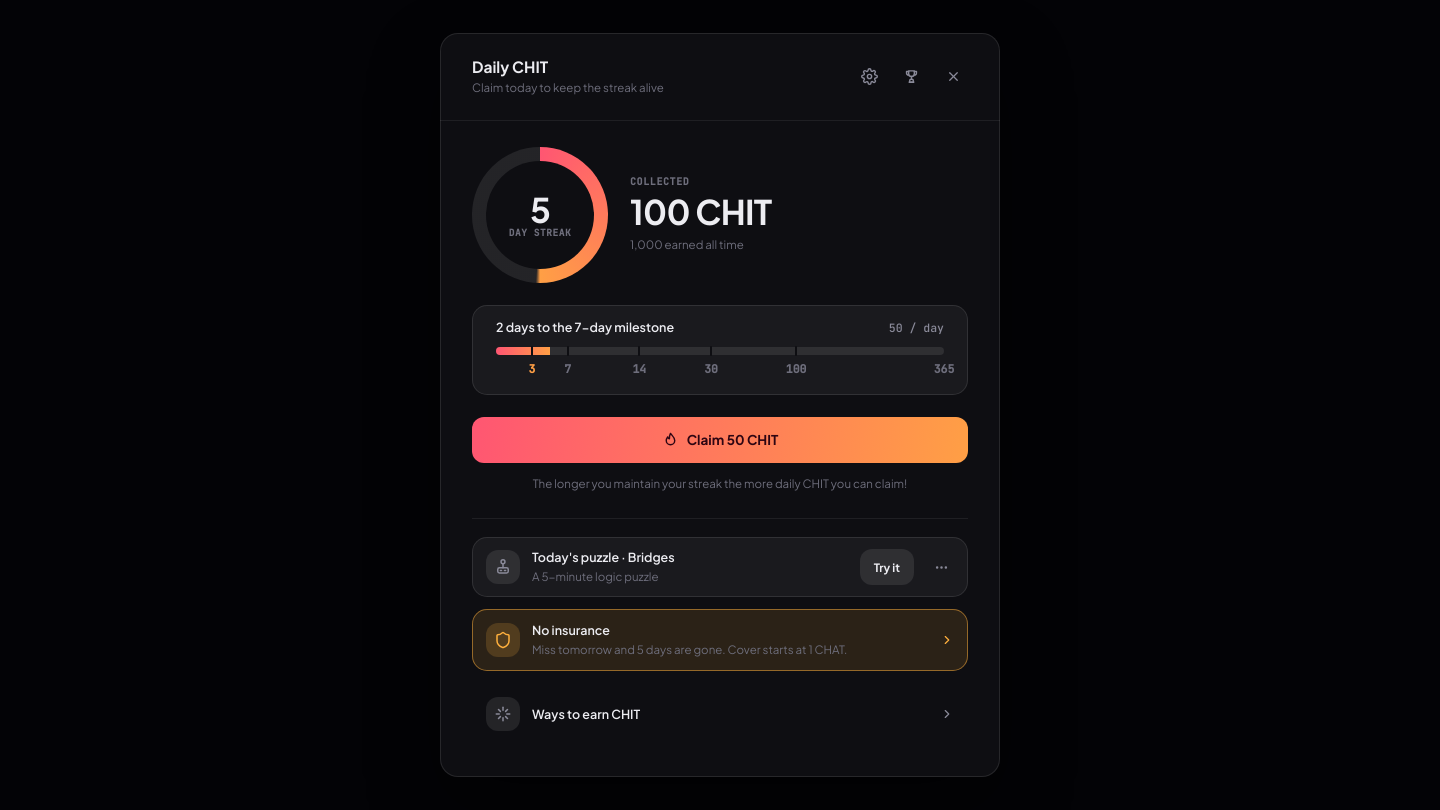
ChitDialog claim › shows the claim only once the host confirms
Click the button with class "claim" at (720, 440), box [472, 417, 968, 463]
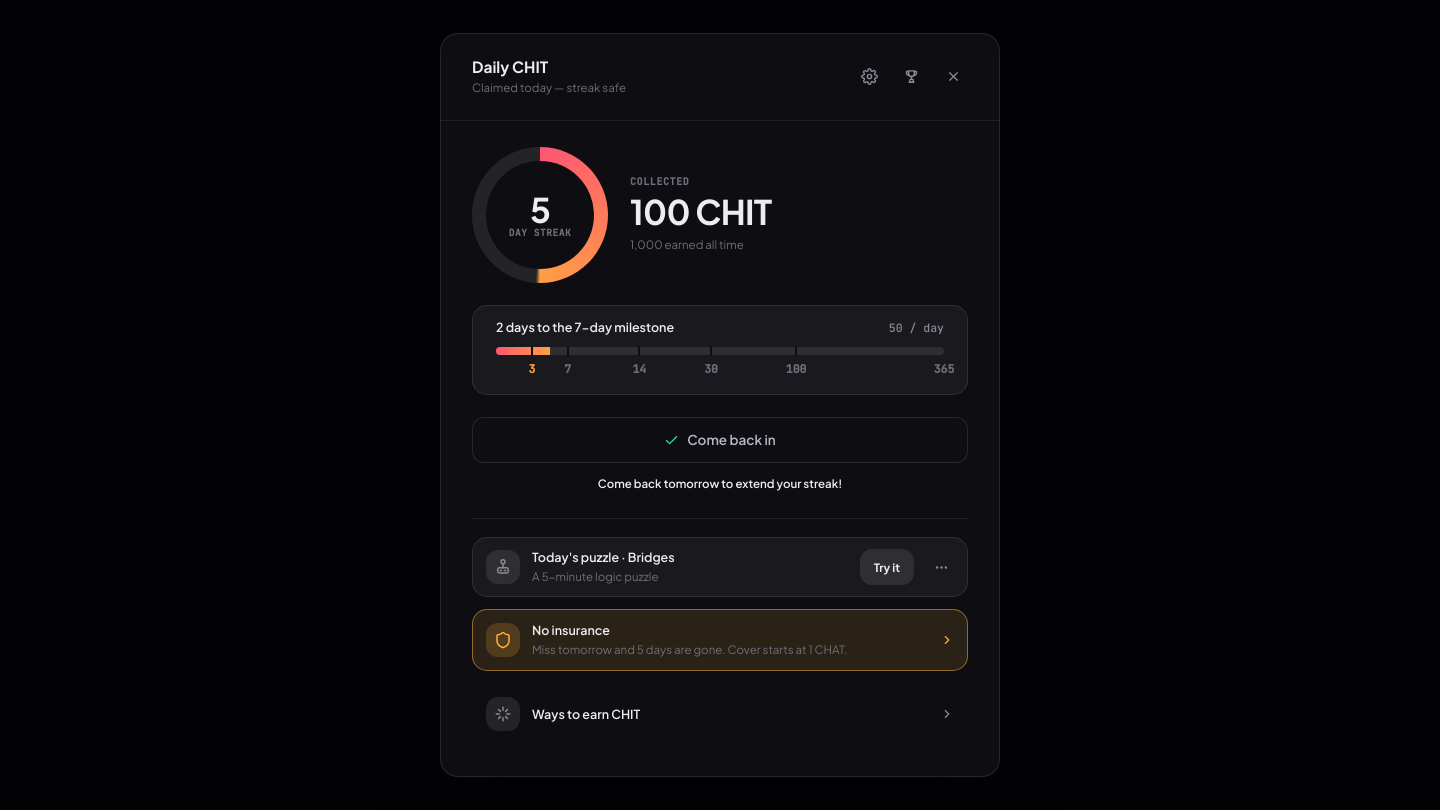
Now the element with class "claimed" is shown, box [472, 417, 968, 463]
Now the button with class "claim" is gone
